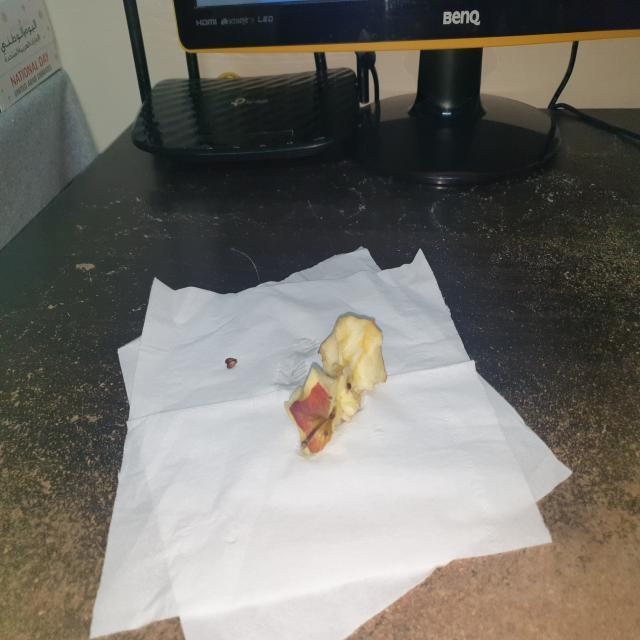apple: (289, 304, 387, 466)
